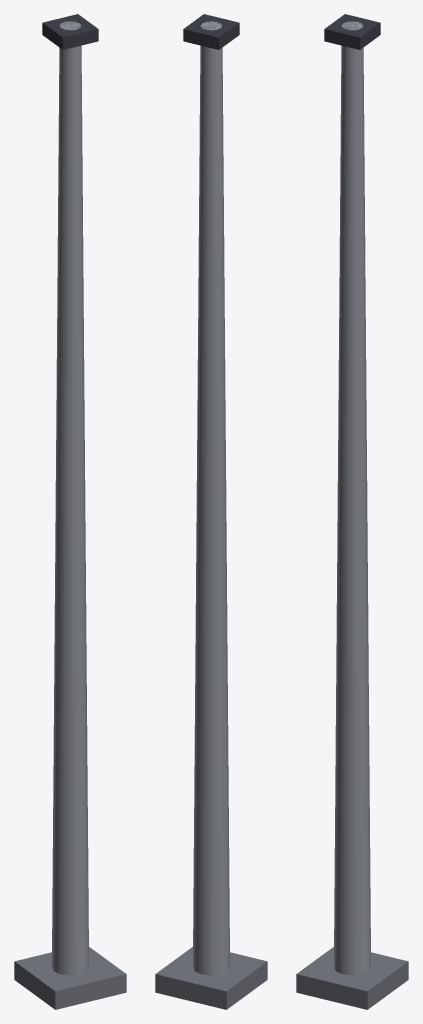
File: Torre.obj
3 views of the same model, side by side, from view 1: azimuth 30°, elevation 25°; view 2: azimuth 150°, elevation 25°; view 3: azimuth 330°, elevation 25° (orthographic).
Visible parts, largest first — view 1: Torre; view 2: Torre; view 3: Torre.
Part boxes in pixels (bbox=[...]): Torre: bbox=[14, 14, 126, 1009]; Torre: bbox=[155, 14, 267, 1009]; Torre: bbox=[296, 14, 408, 1009].
Size of the model in its own units: 2.4 by 31 by 2.4.
1 material, 1 textured.
